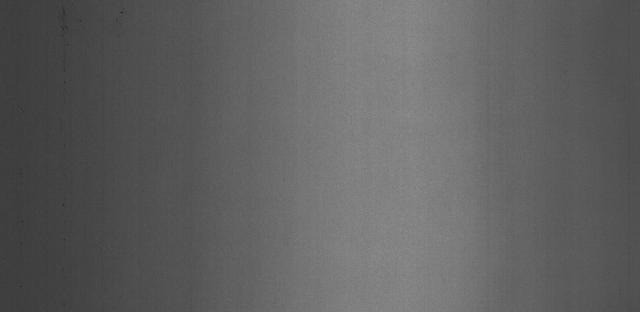inclusion: (49, 3, 77, 76)
